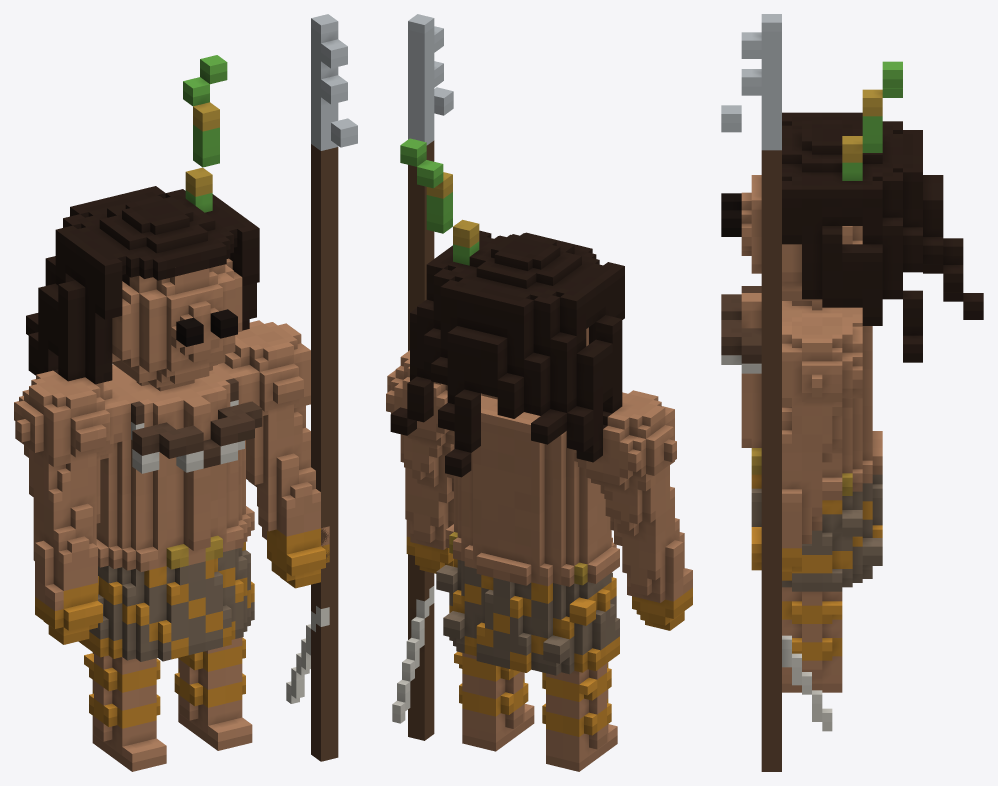
Rendered from u_trappeur__moine.glb.
3 views of the same model, side by side, from view 1: azimuth 30°, elevation 25°; view 2: azimuth 150°, elevation 25°; view 3: azimuth 270°, elevation 25° (orthographic). The views are drawn at different scales.
Parts seen in each view (by area): view 1: trappeur_body, trappeur_weapon; view 2: trappeur_body, trappeur_weapon; view 3: trappeur_body, trappeur_weapon.
Boxes of the visible parts, box(x1,y1,x2,y2) form: trappeur_body: box(14, 55, 329, 771); trappeur_weapon: box(286, 14, 357, 761); trappeur_body: box(386, 138, 692, 771); trappeur_weapon: box(392, 14, 453, 740); trappeur_body: box(721, 61, 983, 692); trappeur_weapon: box(721, 14, 832, 771).
Bounding box in the file's own units: 0.85 × 2.05 × 0.65.
